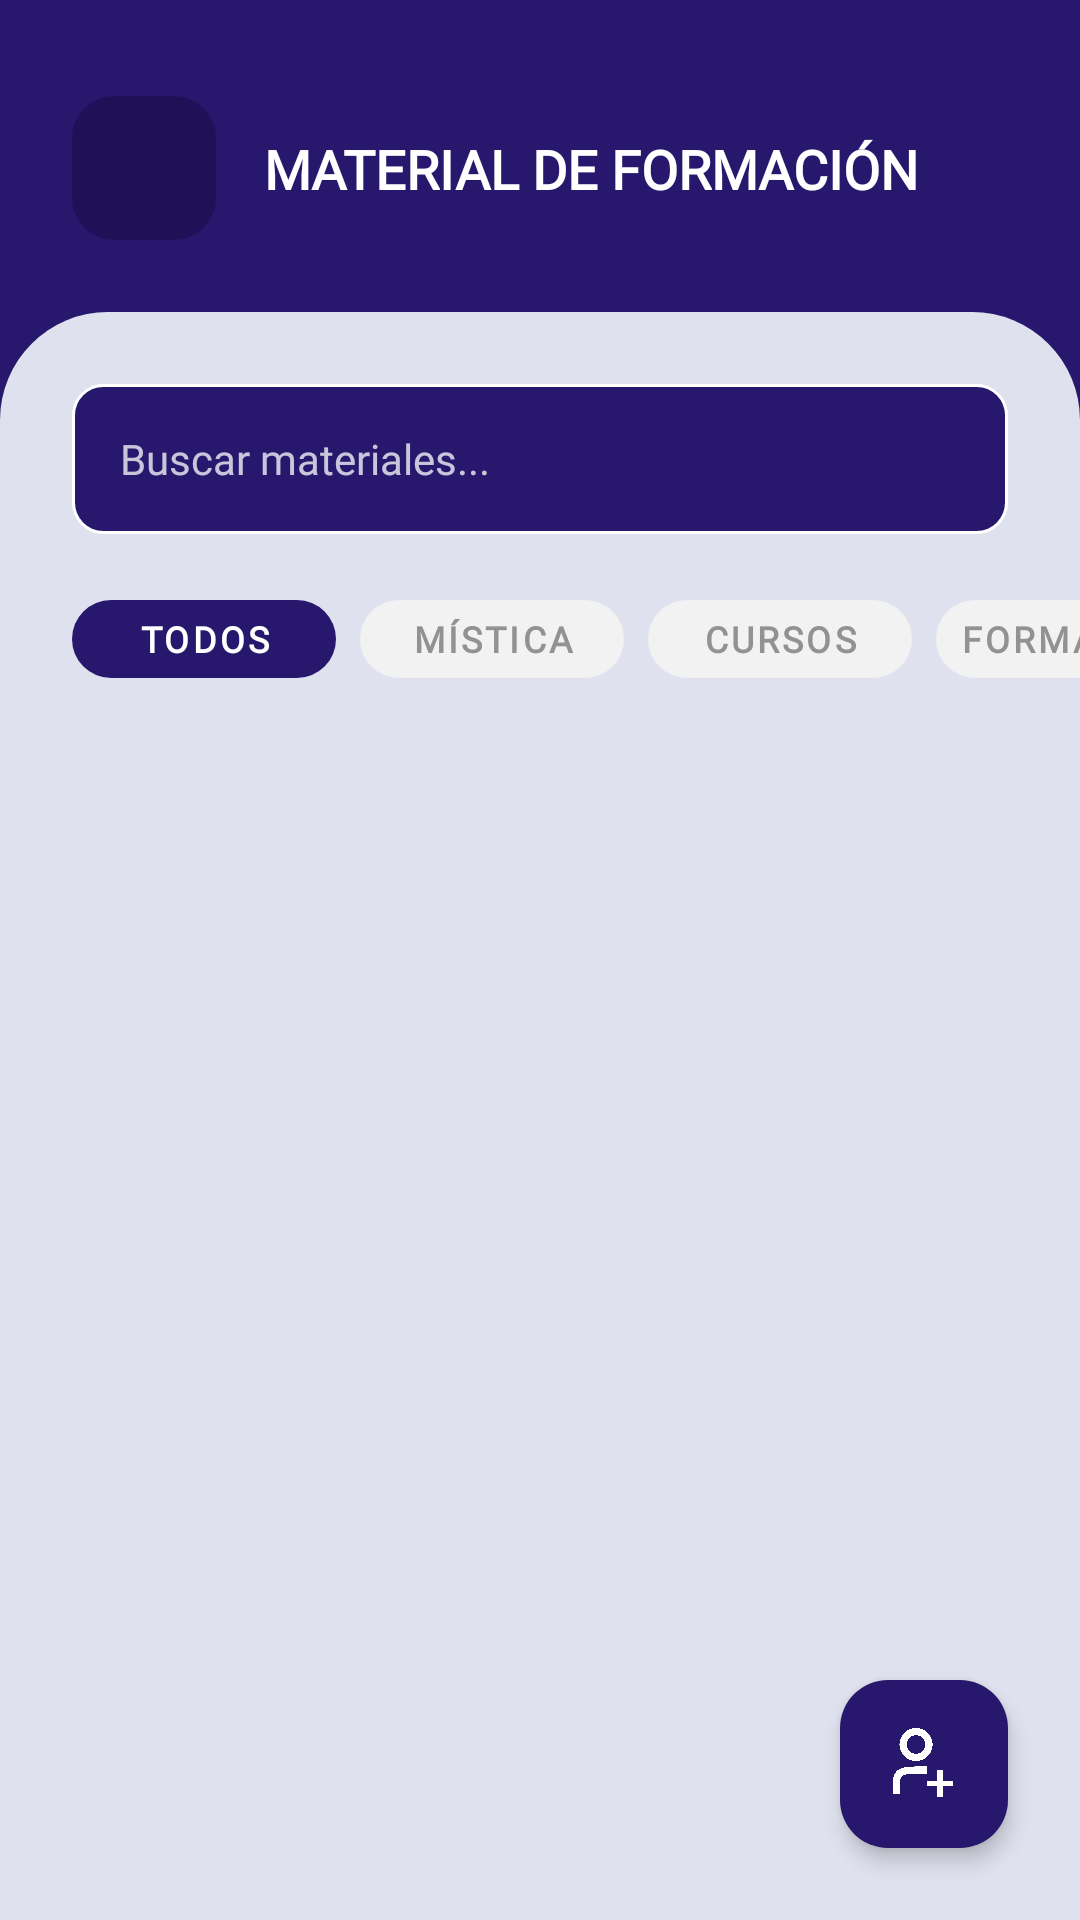

Where to tap for icons on this 1080x1920 app screen, as (x=x, y=y):
user add: (x=924, y=1764)
